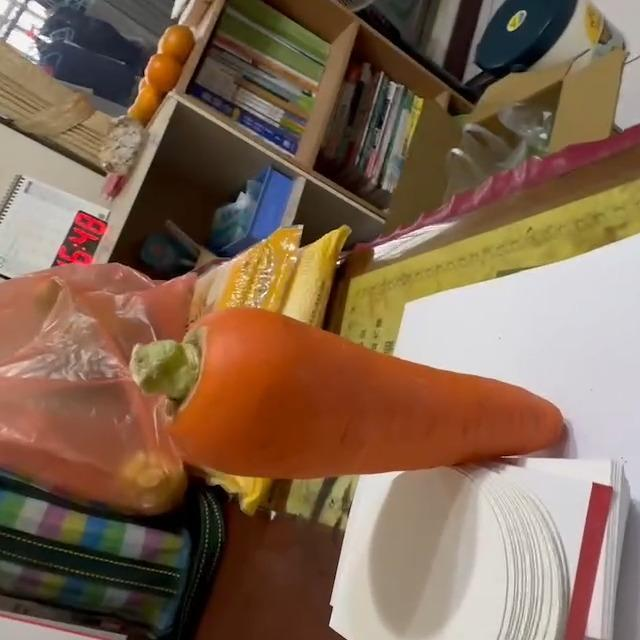carrot: (127, 305, 568, 483)
